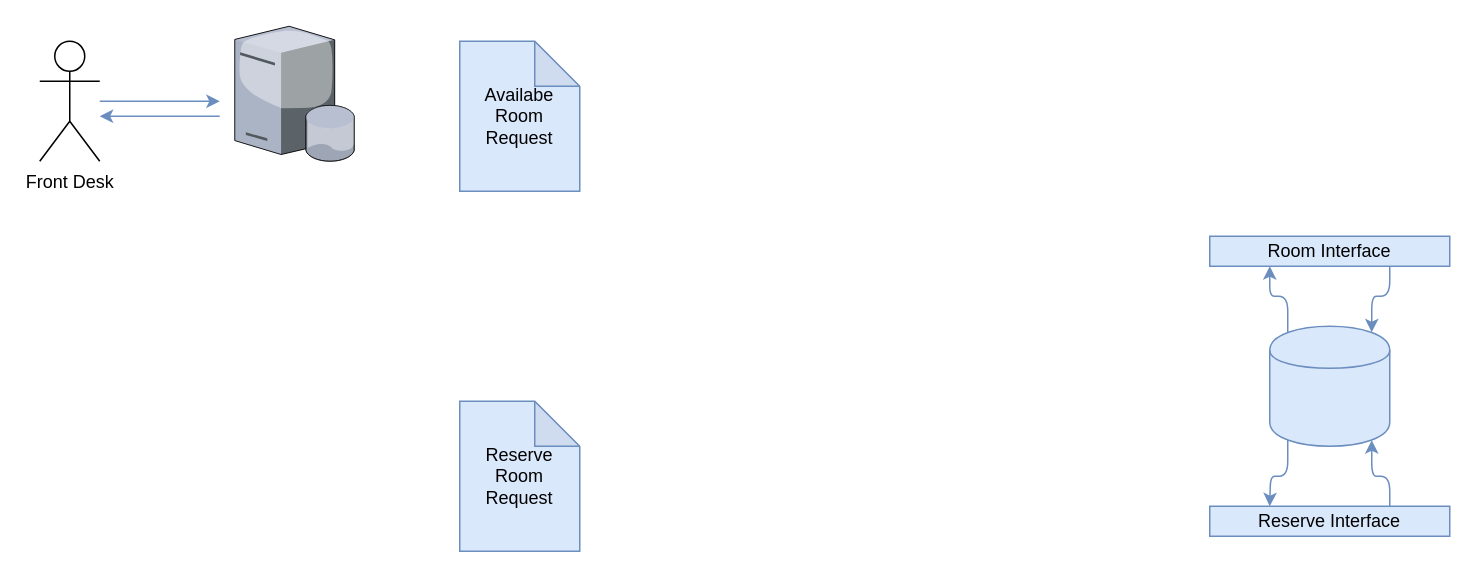
This 1476x578 diagram has some shape labels left out. Each missing label, with the centre of its shape:
Hotel System: [294,93]
Room Database: [1329,385]
